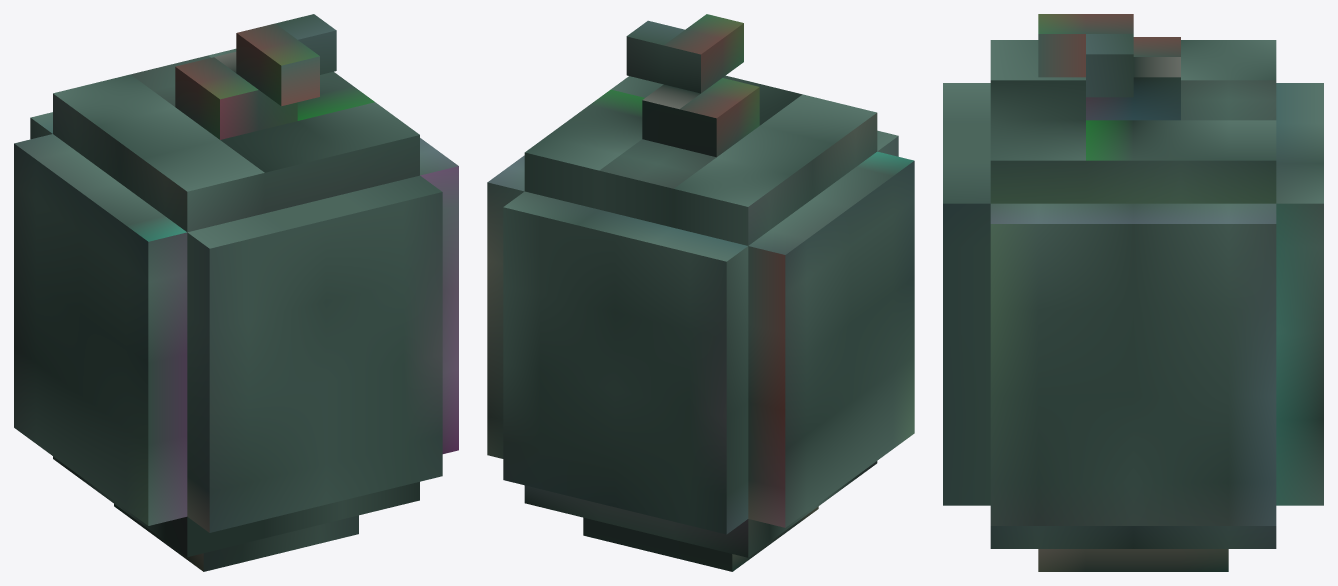
Rendered from Trash_E_00.fbx.
3 views of the same model, side by side, from view 1: azimuth 30°, elevation 25°; view 2: azimuth 150°, elevation 25°; view 3: azimuth 270°, elevation 25° (orthographic). The views are drawn at different scales.
Visible parts, largest first — view 1: Trash_E_00; view 2: Trash_E_00; view 3: Trash_E_00.
Boxes of the visible parts, x1=… form: Trash_E_00: x1=14, y1=14, x2=458, y2=571; Trash_E_00: x1=487, y1=14, x2=914, y2=571; Trash_E_00: x1=943, y1=14, x2=1323, y2=571.
Size of the model in its own units: 40 by 60 by 40.
